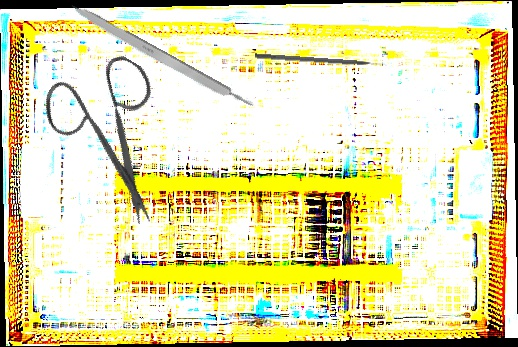Hook Surgical: (254, 53, 388, 69)
Iris Scissors: (14, 32, 218, 230)
Scalpel Handle: (65, 0, 259, 116)
